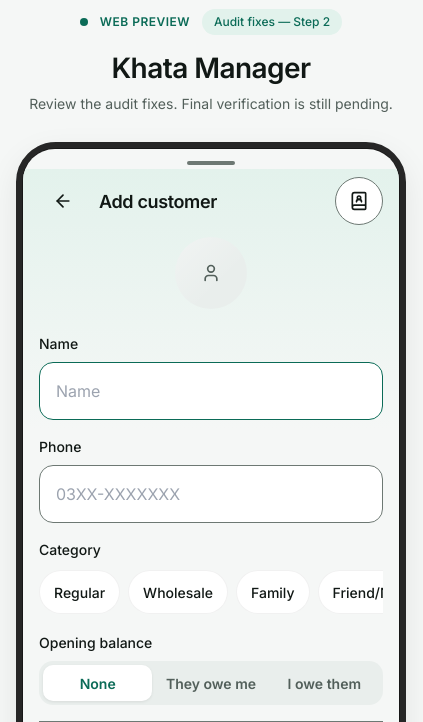
Scenario: blocked localStorage keeps the unsaved form and existing ledger
Type "Ali" into the field labelled "Name" at (211, 391), box [39,362,383,420]
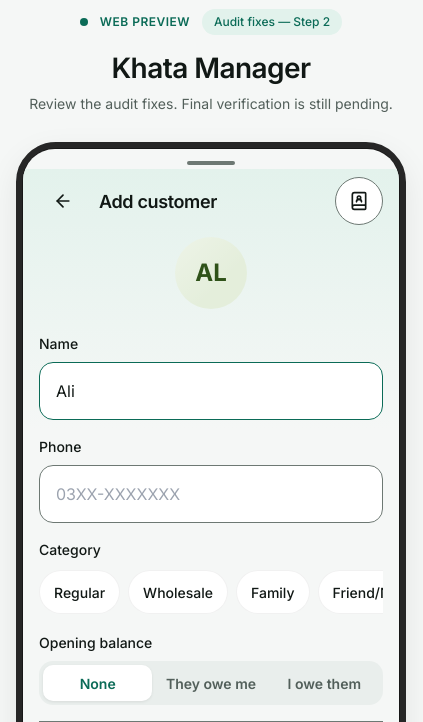
Type "03001234567" into the field labelled "Phone" at (211, 494), box [39,465,383,523]
(page scrolled)
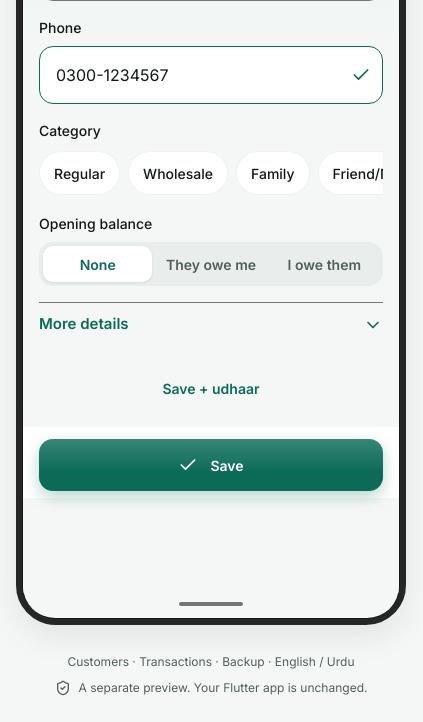
Click the button "Save" at (211, 465), box [39,439,383,491]
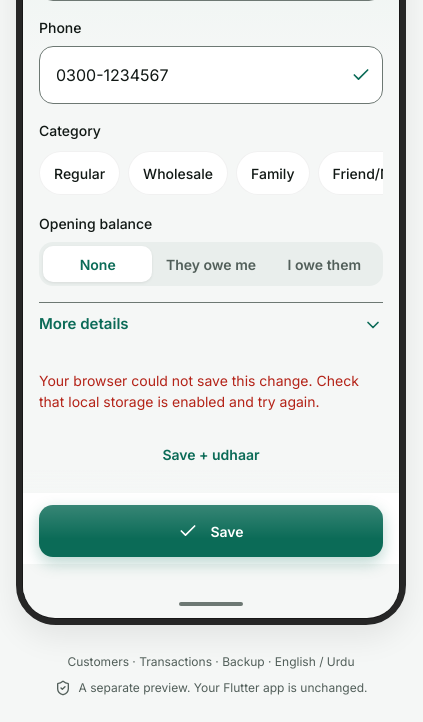
Expected: the text "Your browser could not save this change. Check that local storage is enabled and try again." is shown, [39,372,359,410]
